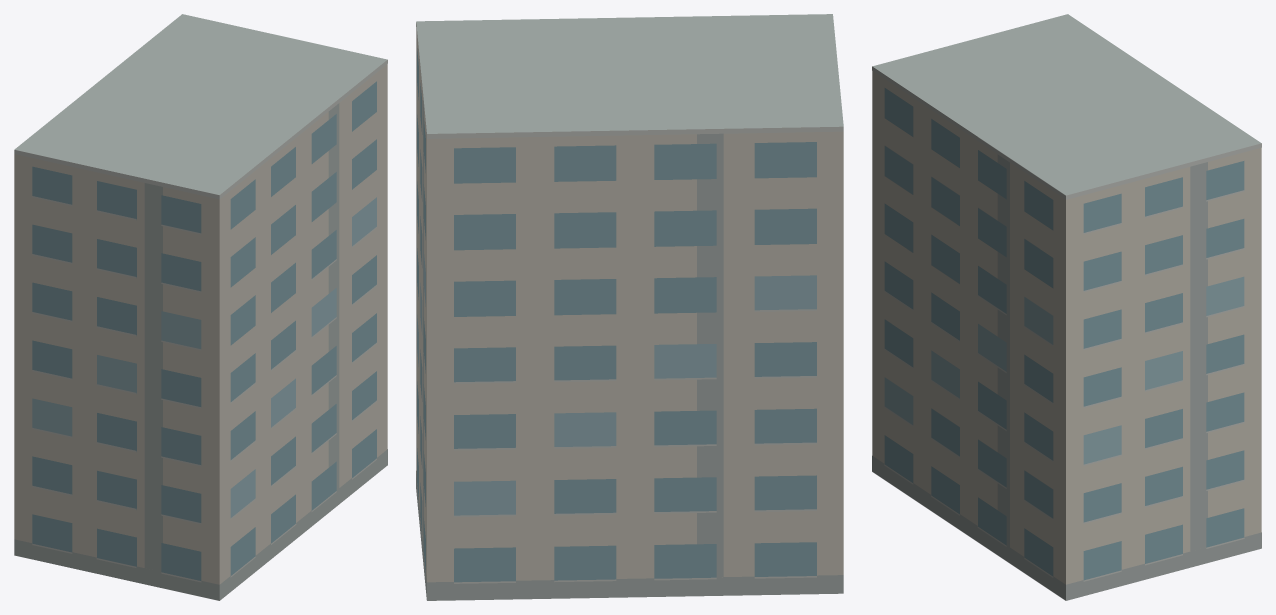
The model's file is survey-upis-32765384.glb.
3 renders of one model, left to right at view 1: azimuth 30°, elevation 25°; view 2: azimuth 150°, elevation 25°; view 3: azimuth 270°, elevation 25°, orthographic. The views are drawn at different scales.
Parts seen in each view (by area): view 1: survey-upis-32765384.tmp; view 2: survey-upis-32765384.tmp; view 3: survey-upis-32765384.tmp.
Boxes of the visible parts, x1=… form: survey-upis-32765384.tmp: x1=14, y1=14, x2=387, y2=600; survey-upis-32765384.tmp: x1=416, y1=14, x2=843, y2=600; survey-upis-32765384.tmp: x1=872, y1=14, x2=1261, y2=600.
Bounding box in the file's own units: 22.21 × 23.1 × 20.13.
